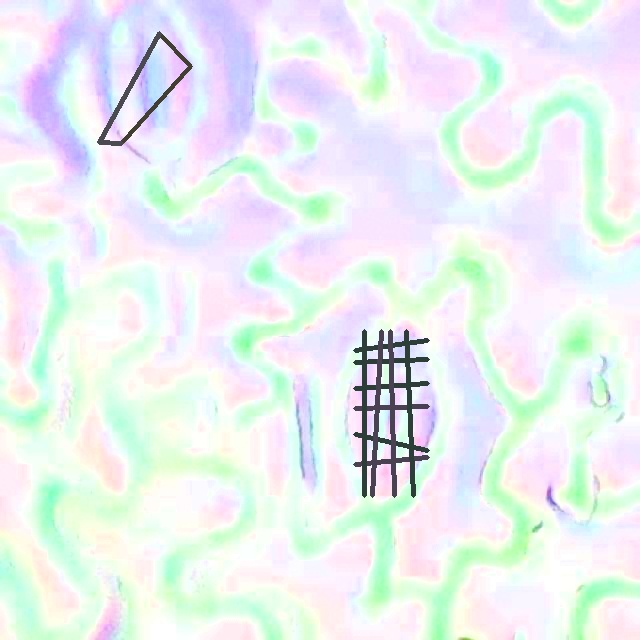open: (353, 329, 429, 497), (97, 31, 192, 145)
